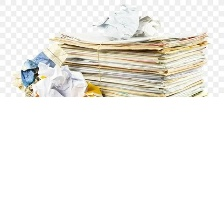news_paper: (51, 28, 215, 98), (9, 42, 103, 98), (89, 0, 164, 42)
